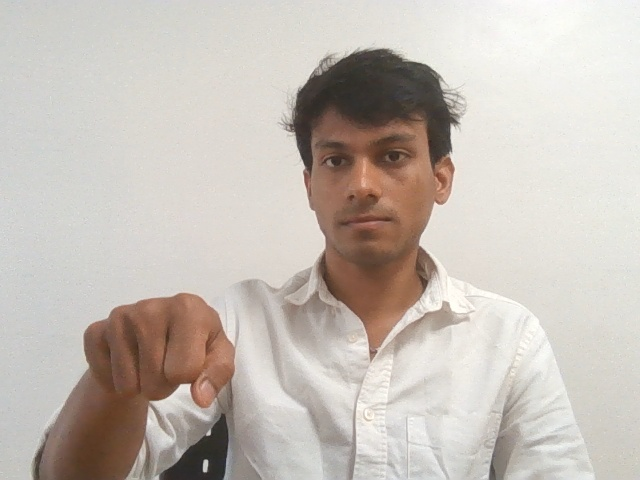Yes: (70, 290, 243, 409)
